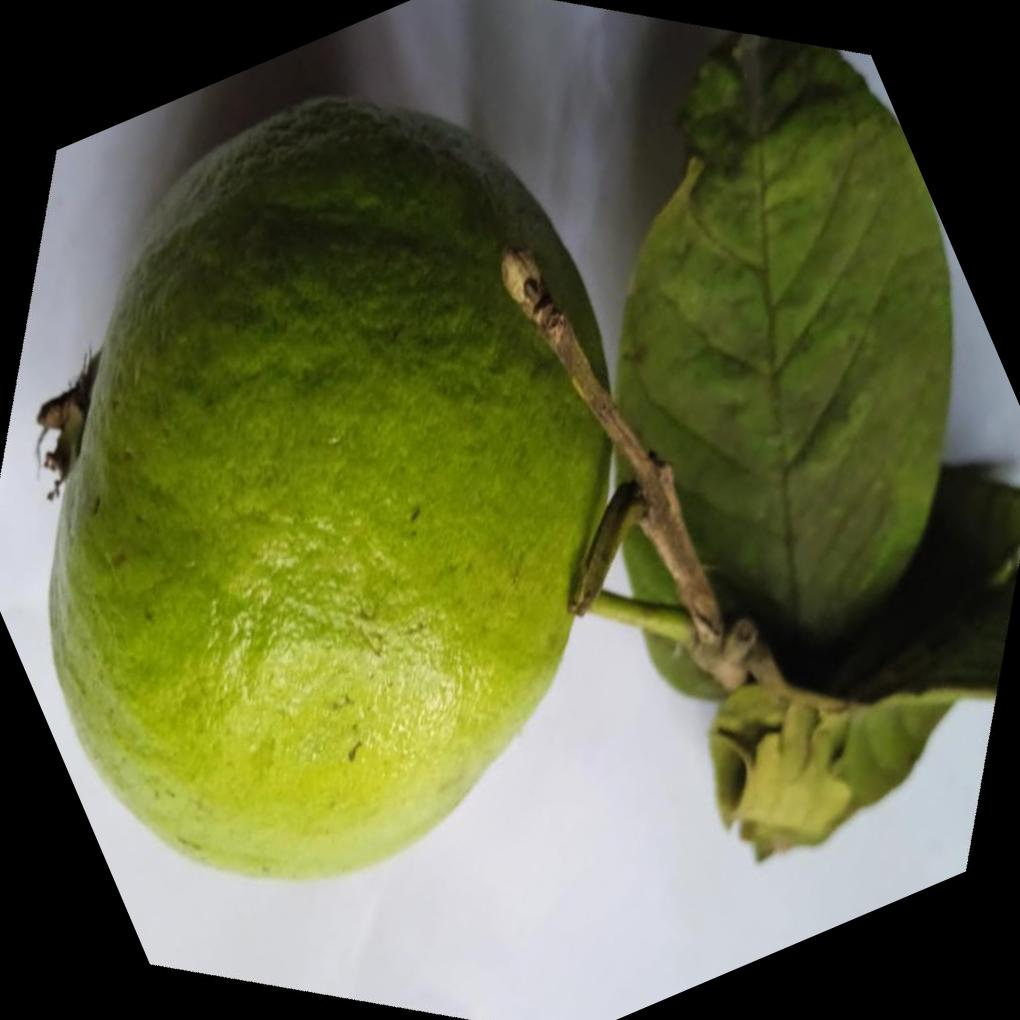FreshGuava: (47, 89, 616, 882)
